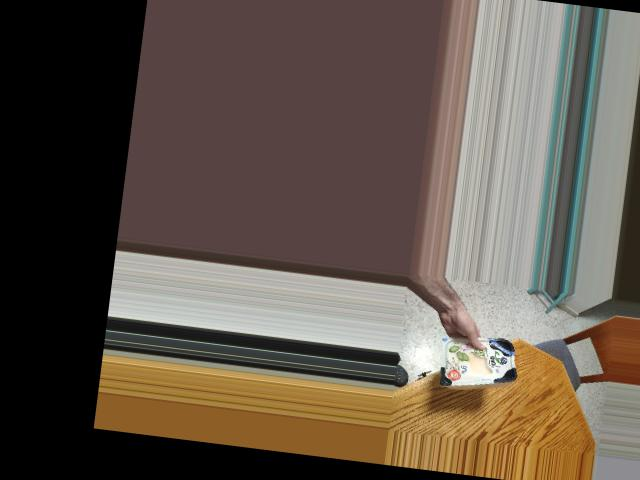cheese: (431, 316, 521, 399)
